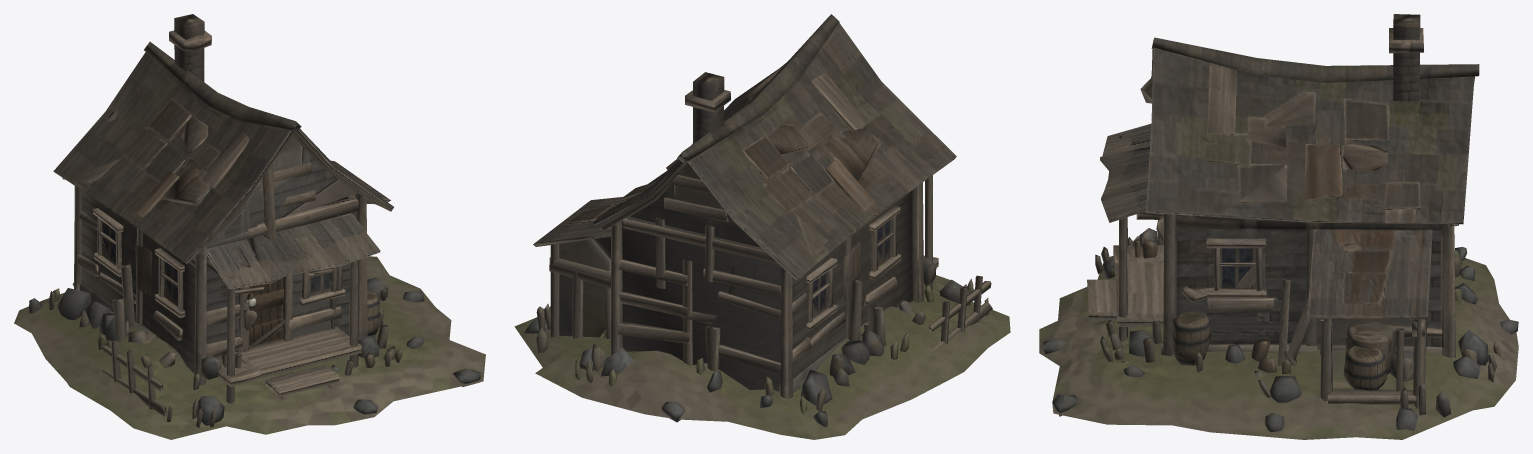
File: Meshy_AI_pickman_house_3_textu_0921204716_texture.glb
3 views of the same model, side by side, from view 1: azimuth 30°, elevation 25°; view 2: azimuth 150°, elevation 25°; view 3: azimuth 270°, elevation 25° (orthographic). The views are drawn at different scales.
Size of the model in its own units: 2 by 1.49 by 2.
Materials: 1 (1 with a texture image).
